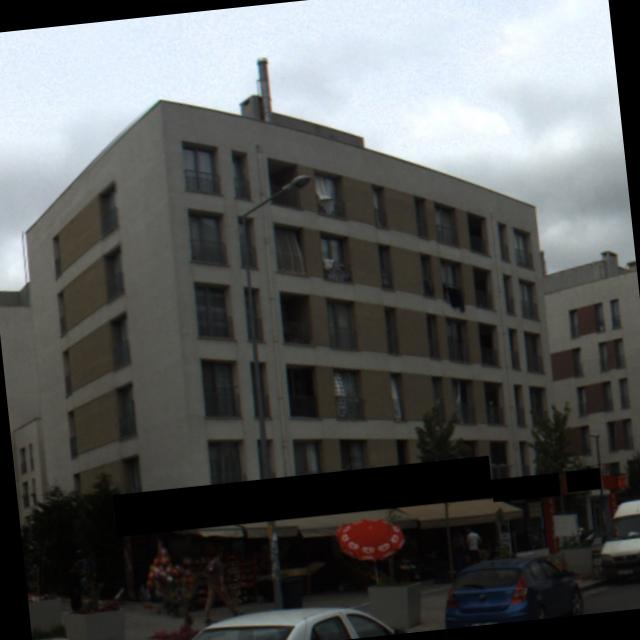SignStore: (113, 478, 493, 527), (491, 477, 560, 500), (565, 468, 601, 492)
